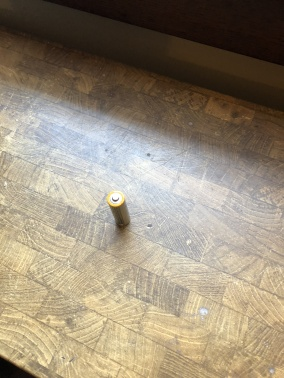battery: (106, 189, 133, 229)
